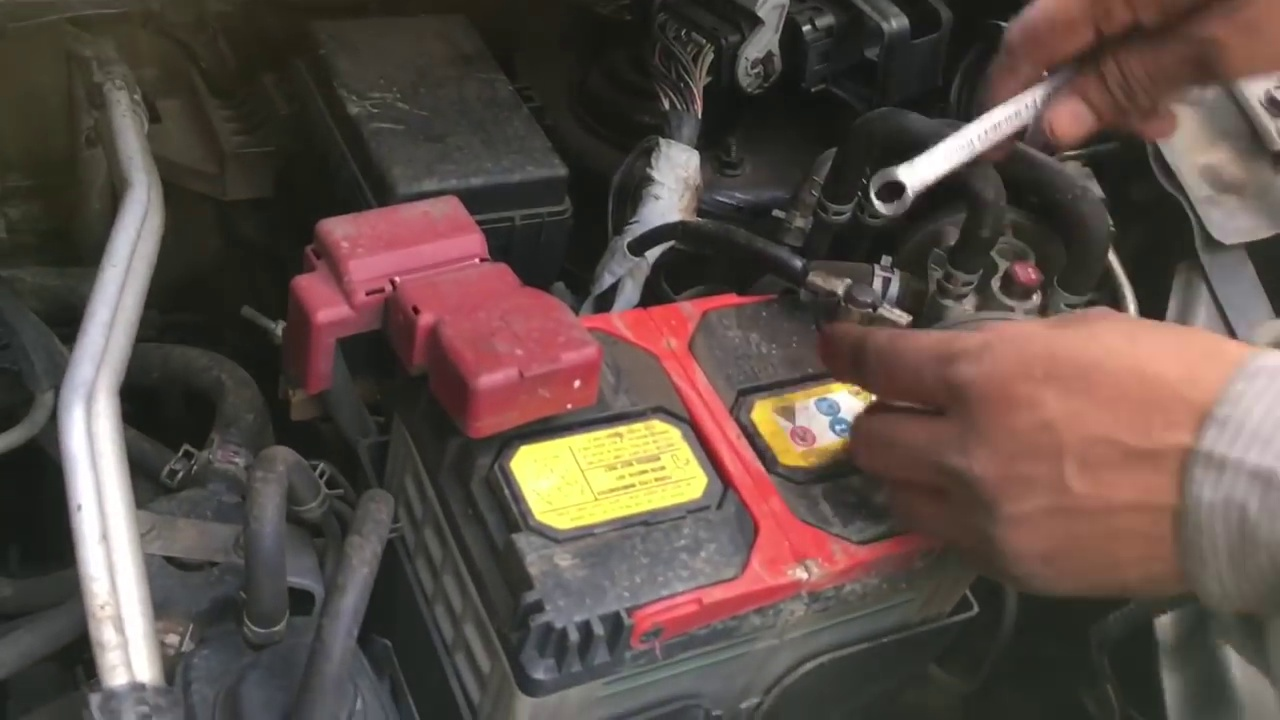battery: (420, 243, 964, 669)
neg_connected: (734, 230, 922, 336)
pos_connected: (328, 201, 613, 445)
